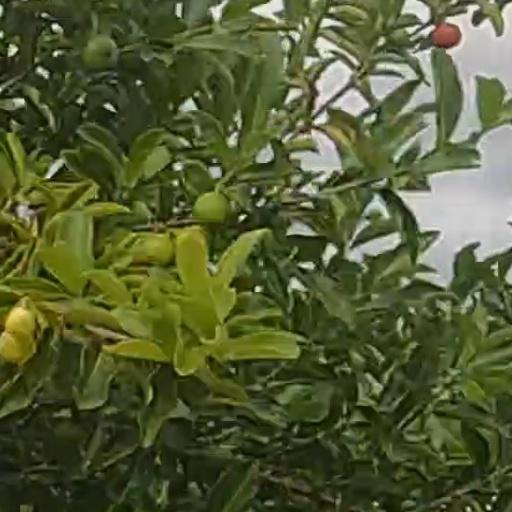acerola: (81, 34, 118, 67), (2, 333, 34, 363), (7, 304, 39, 333), (195, 192, 228, 219), (433, 24, 460, 47)
